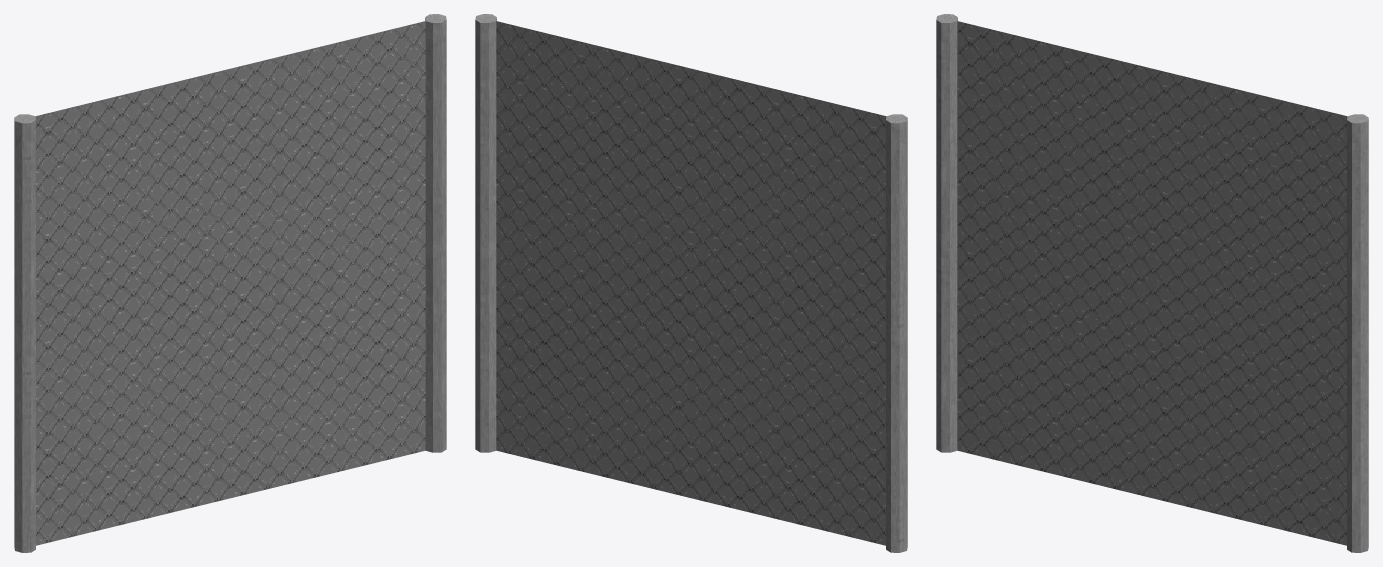
The model's file is fence.glb.
3 renders of one model, left to right at view 1: azimuth 30°, elevation 25°; view 2: azimuth 150°, elevation 25°; view 3: azimuth 330°, elevation 25°, orthographic.
Parts seen in each view (by area): view 1: Cube; view 2: Cube; view 3: Cube.
Boxes of the visible parts, <box> form: Cube: <box>14,14,446,552</box>; Cube: <box>475,14,907,552</box>; Cube: <box>936,14,1368,552</box>.
Bounding box in the file's own units: 4.2 × 4 × 0.2.
2 materials, 2 textured.
